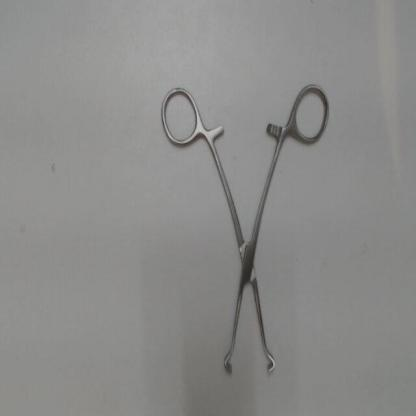Babcock Tissue Forceps: (154, 82, 334, 380)
